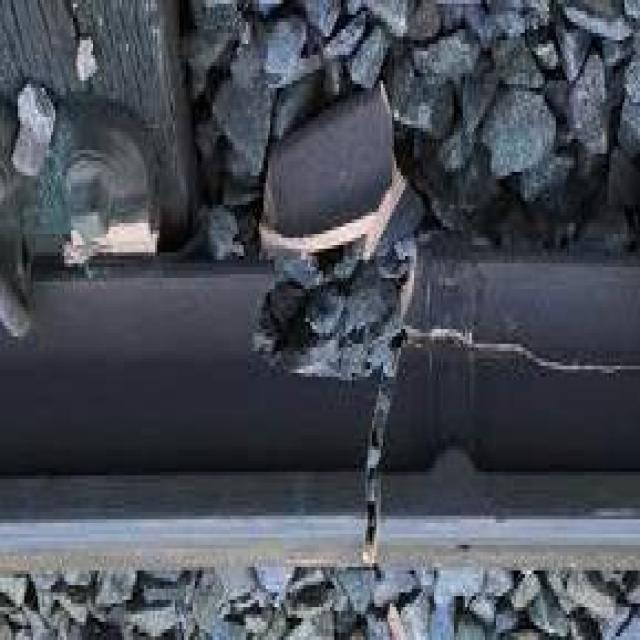broken_rail_high: (246, 270, 479, 554)
